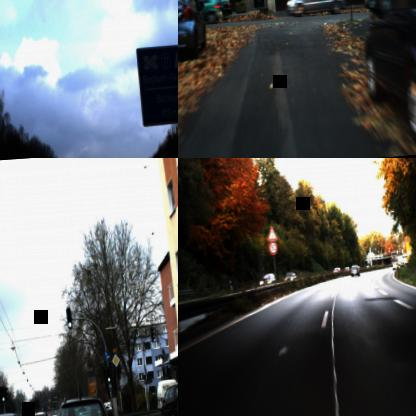go right: (103, 350, 111, 362)
priority road: (112, 352, 121, 368)
speed limit 50: (268, 240, 278, 256)
traffic signal: (266, 225, 278, 242)
